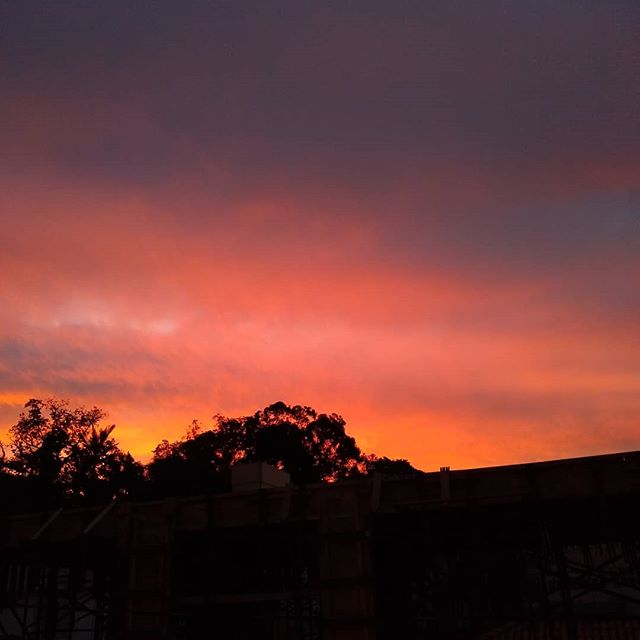sky: (6, 1, 640, 456)
